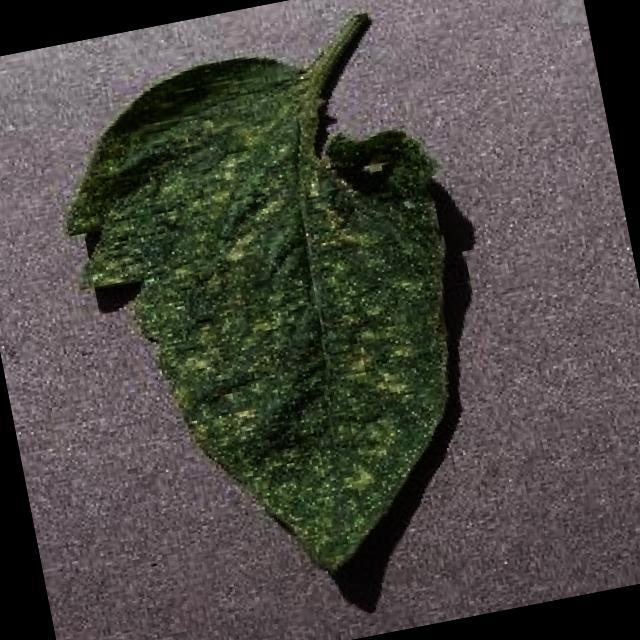Tomato spider mites leaf: (40, 22, 511, 618)
